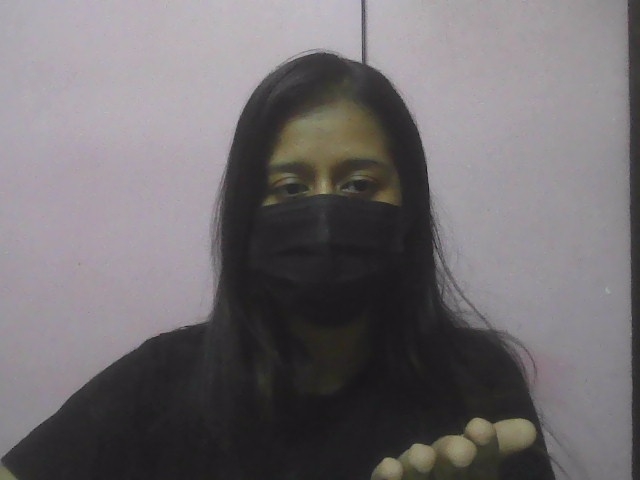Thank you: (335, 385, 569, 477)
